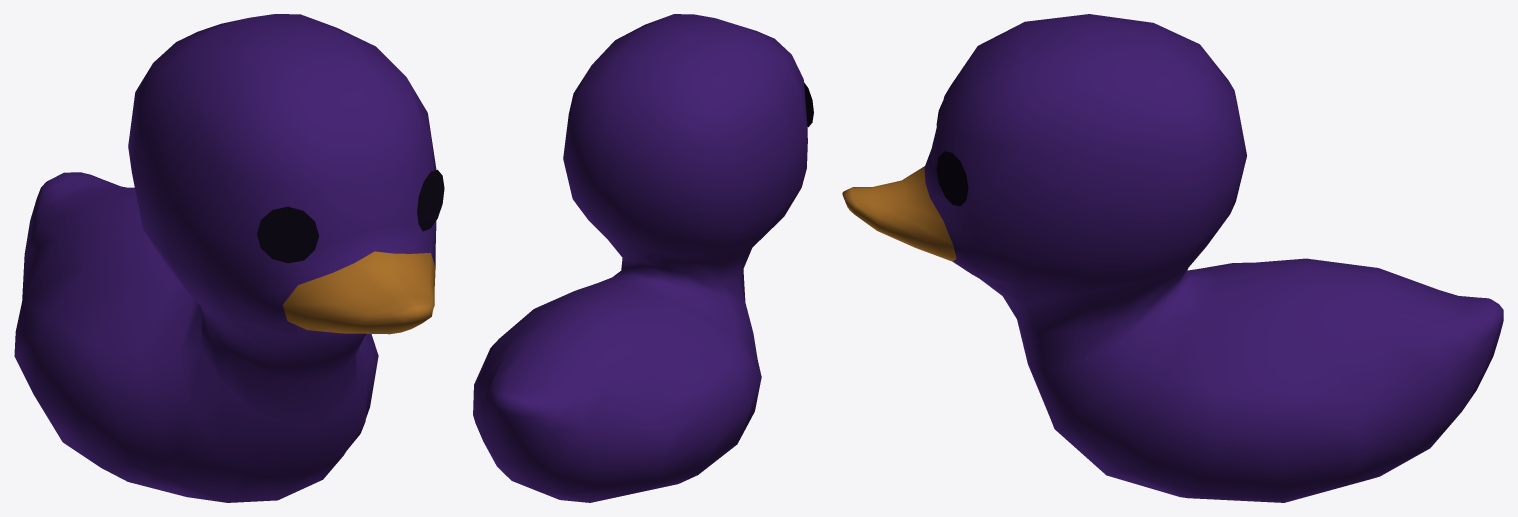
File: Duck_Purple.fbx
3 renders of one model, left to right at view 1: azimuth 30°, elevation 25°; view 2: azimuth 150°, elevation 25°; view 3: azimuth 270°, elevation 25°, orthographic. The views are drawn at different scales.
Visible parts, largest first — view 1: Duck_Purple; view 2: Duck_Purple; view 3: Duck_Purple.
Boxes of the visible parts, <box> form: Duck_Purple: <box>14,14,444,502</box>; Duck_Purple: <box>473,14,813,502</box>; Duck_Purple: <box>842,14,1503,502</box>.
Bounding box in the file's own units: 76.94 × 124 × 165.
